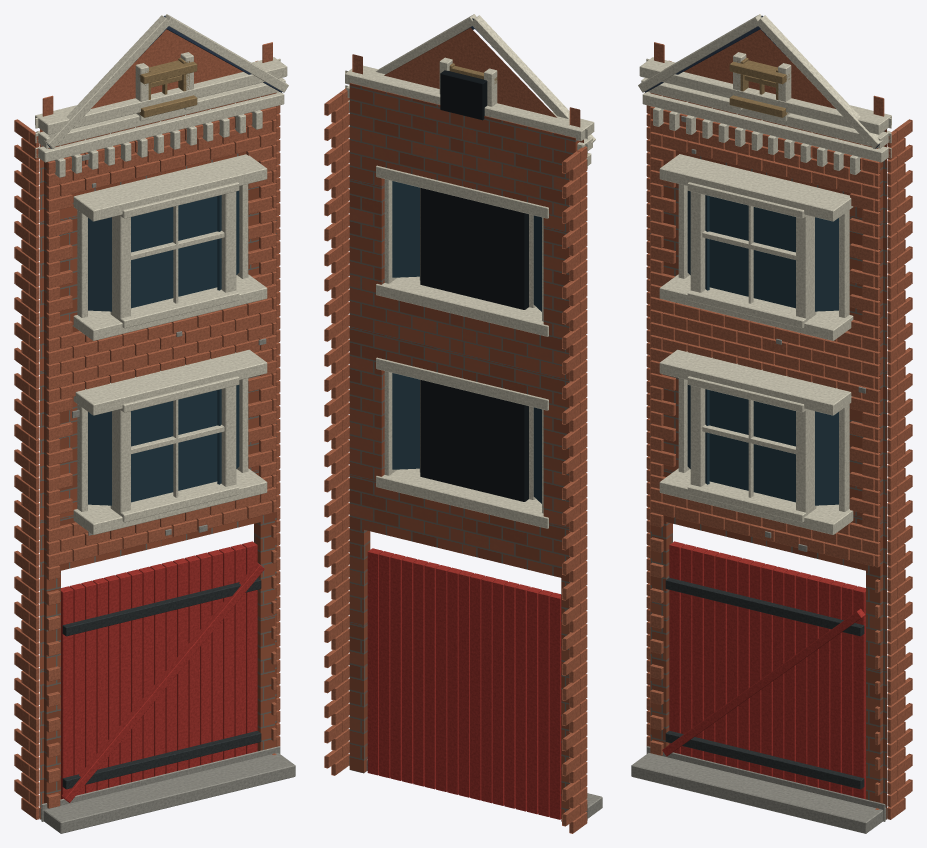
The model's file is VICT6B_lod0.glb.
The picture shows the model from 3 angles, left to right: view 1: azimuth 30°, elevation 25°; view 2: azimuth 150°, elevation 25°; view 3: azimuth 330°, elevation 25°; orthographic projection.
Visible parts, largest first — view 1: VICT6B_FRONT_LOD0; view 2: VICT6B_FRONT_LOD0; view 3: VICT6B_FRONT_LOD0.
Part boxes in pixels (x1,y1,x2,y2): VICT6B_FRONT_LOD0: [14, 14, 295, 833]; VICT6B_FRONT_LOD0: [324, 14, 602, 833]; VICT6B_FRONT_LOD0: [631, 14, 912, 833].
Size of the model in its own units: 3.44 by 10.46 by 1.11.
Materials: 13 (11 with a texture image).
